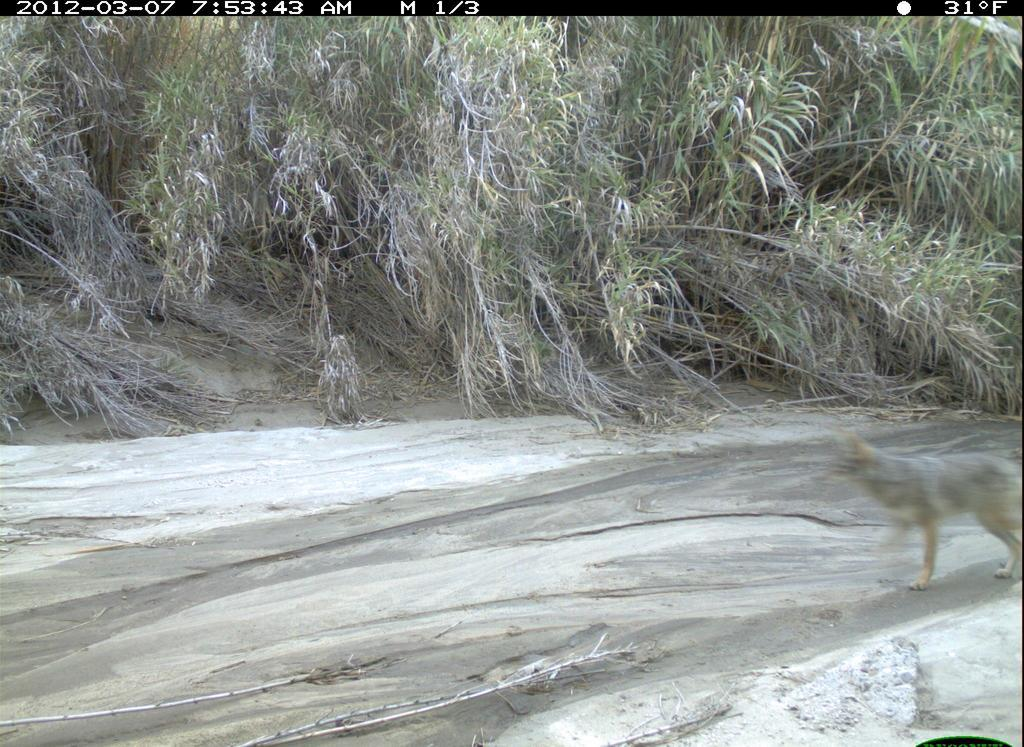coyote: (833, 425, 1023, 592)
